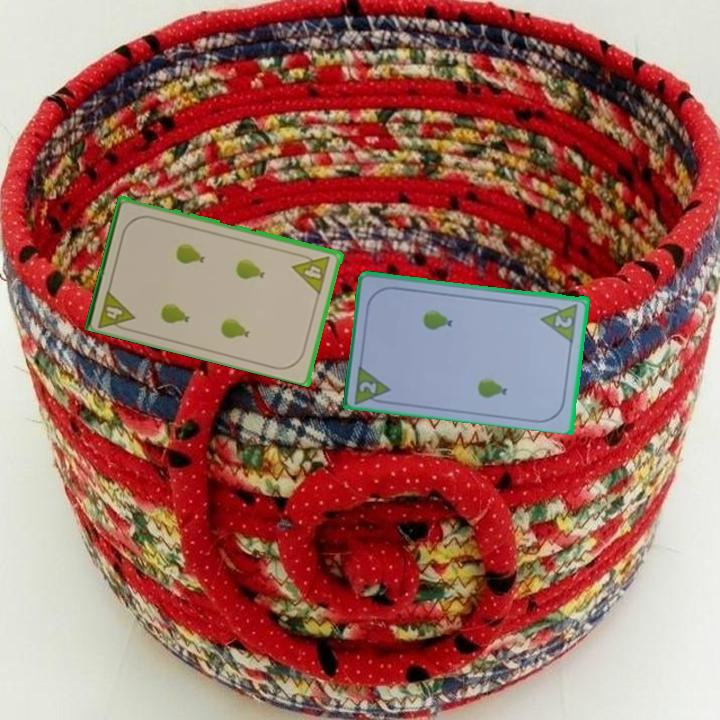2p: (351, 361, 394, 407), (551, 311, 576, 330)
4p: (94, 284, 138, 335), (290, 249, 333, 296)
